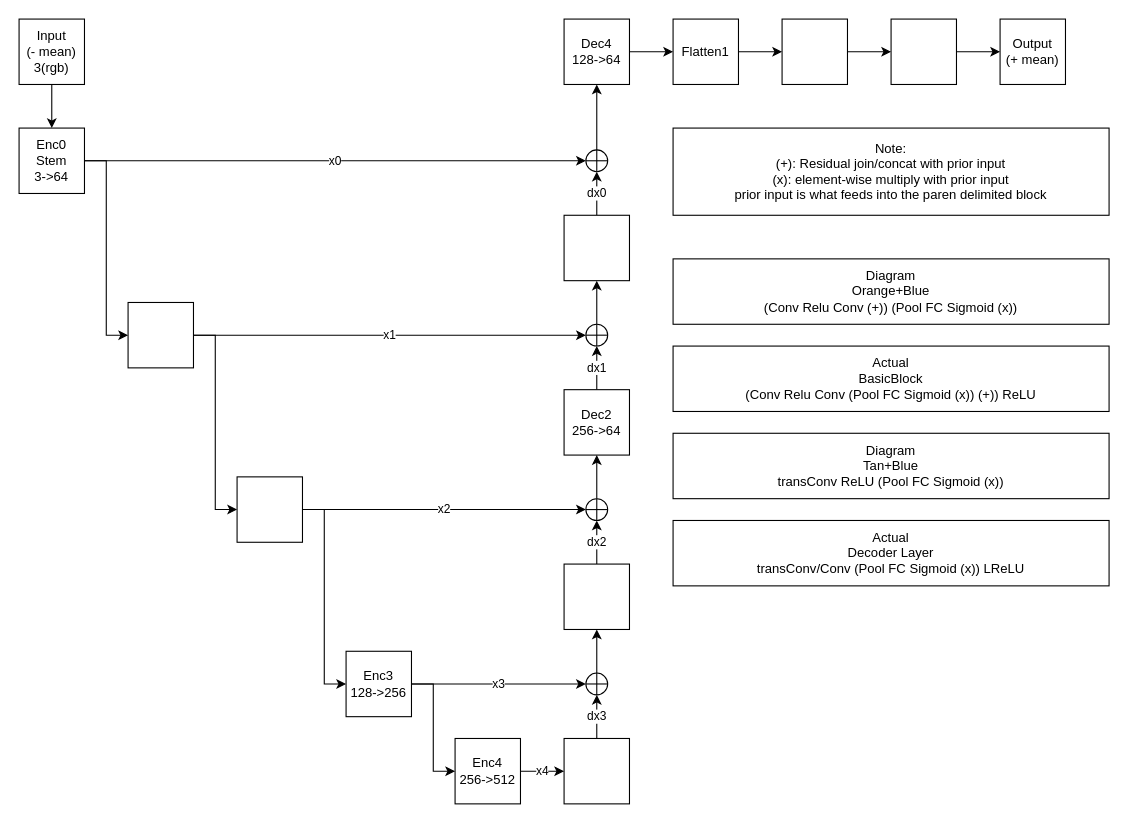
The diagram is 1128 pixels wide and 823 high, and some of its shapes have lost their labels. Each missing label, with the centre of its shape:
"Dec0 512->256" belongs at (596,770).
"Dec1 512->128" belongs at (596,596).
"Dec3 128->64" belongs at (596,247).
"Enc1 64->64" belongs at (160,334).
"Enc2 64->128" belongs at (269,509).
"Feature Fuze 64*4->64" belongs at (814,51).
"Outconv 64->3*D" belongs at (923,51).
